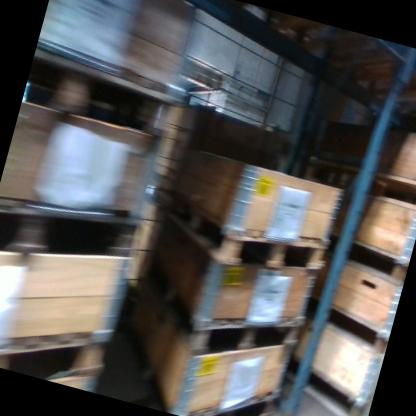pallet: (140, 274, 307, 381), (157, 194, 332, 290), (0, 177, 144, 291), (20, 49, 175, 143), (0, 297, 115, 394), (300, 151, 416, 212), (298, 292, 395, 359), (282, 354, 378, 416), (180, 366, 281, 416), (343, 239, 410, 286)
